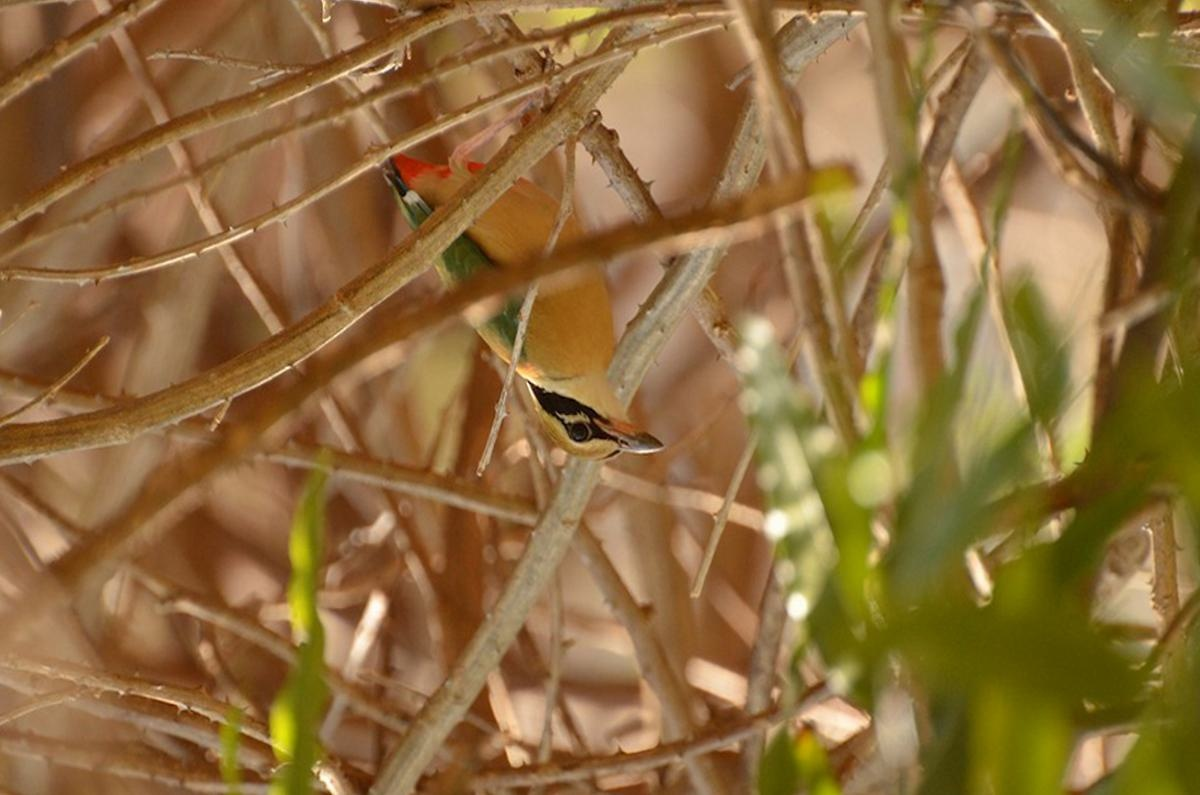pitta: (353, 101, 674, 491)
